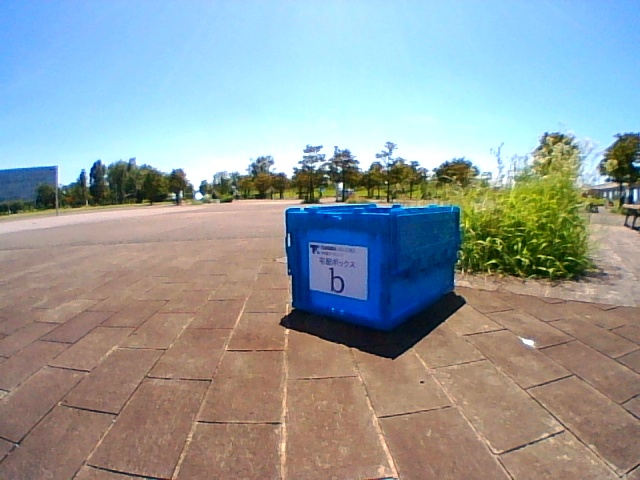blue_box: (287, 207, 451, 297)
tag_b: (314, 248, 365, 294)
